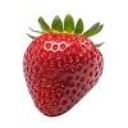strawberry: (20, 23, 105, 115)
